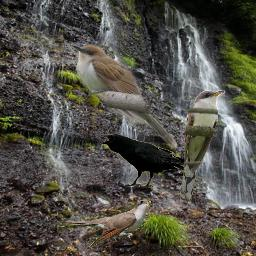Crow: (100, 134, 193, 188)
Cuckoo: (71, 45, 178, 149), (180, 90, 225, 203), (57, 199, 151, 247)
